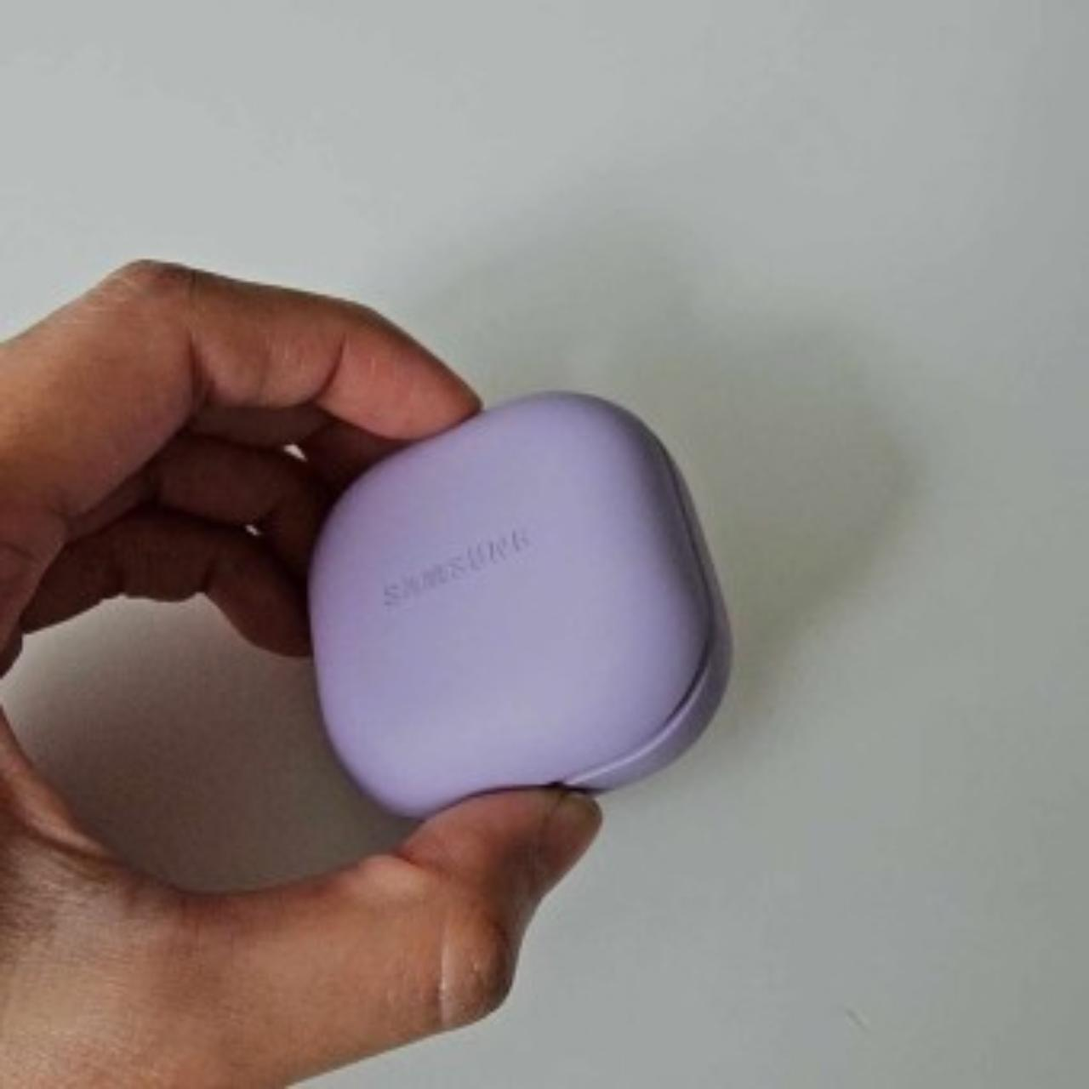Buds: (292, 384, 741, 832)
